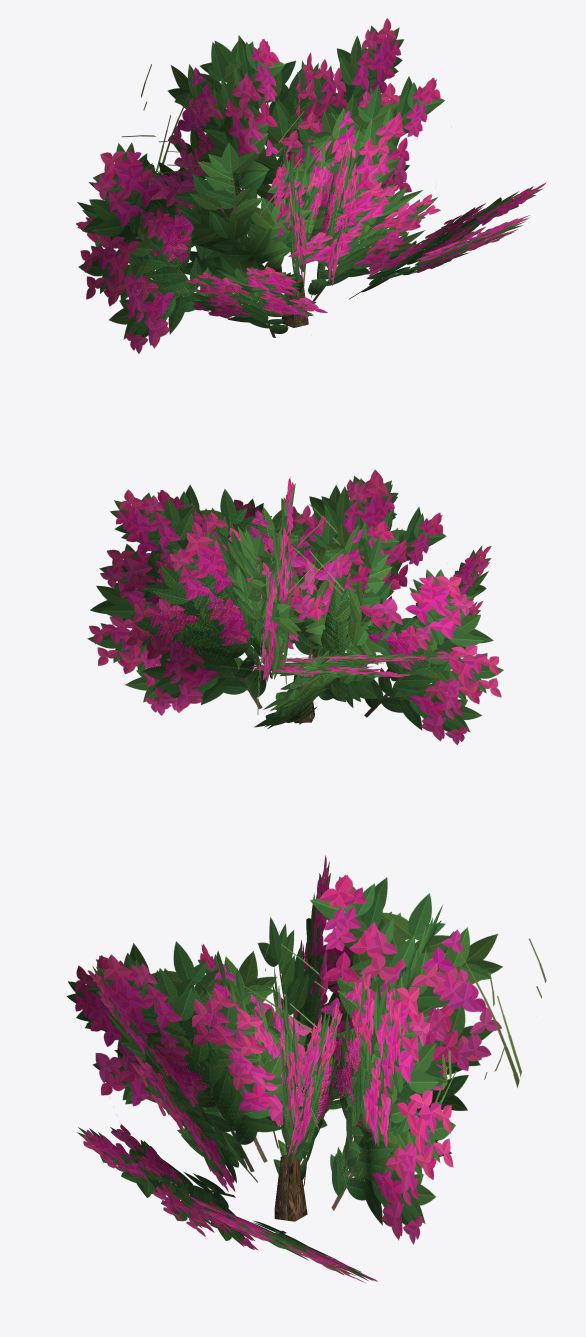
File: veg_shrub_bougain_a.glb
3 renders of one model, top to bottom at view 1: azimuth 30°, elevation 25°; view 2: azimuth 150°, elevation 25°; view 3: azimuth 270°, elevation 25°, orthographic. The views are drawn at different scales.
Parts seen in each view (by area): view 1: Leaves; view 2: Leaves; view 3: Leaves, Trunk.
Part boxes in pixels (x1,y1,x2,y2): Leaves: (76, 18, 546, 353); Leaves: (87, 469, 503, 744); Leaves: (66, 855, 546, 1283); Trunk: (274, 1155, 307, 1221).
Bounding box in the file's own units: 14.79 × 8.98 × 10.68.
2 materials, 2 textured.
